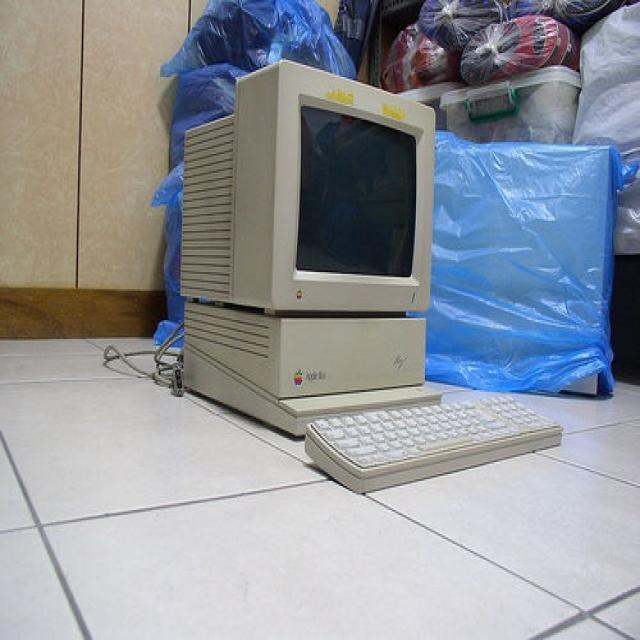tvmonitor: (182, 61, 430, 315)
